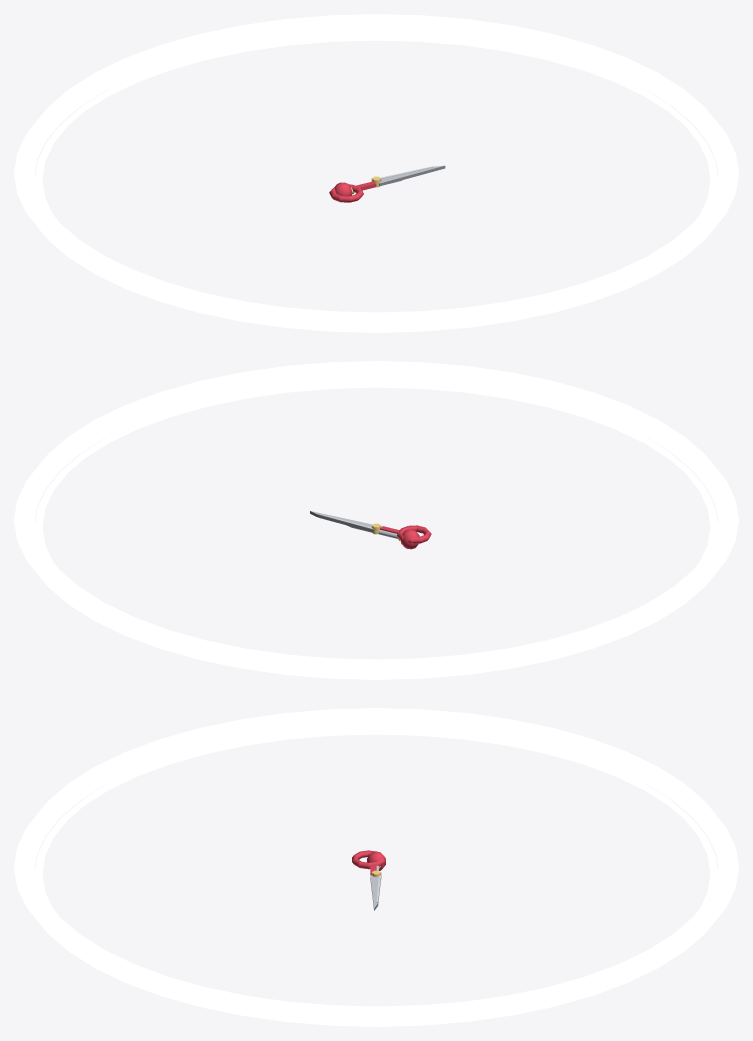
File: kinu_pins.glb
3 views of the same model, one above another, from view 1: azimuth 30°, elevation 25°; view 2: azimuth 150°, elevation 25°; view 3: azimuth 270°, elevation 25° (orthographic).
Parts seen in each view (by area): view 1: heatRing_band, scissor_half; view 2: heatRing_band, scissor_half; view 3: heatRing_band, scissor_half.
Boxes of the visible parts, x1,y1,x2,y2 form: heatRing_band: (14, 14, 738, 332); scissor_half: (329, 165, 445, 202); heatRing_band: (14, 361, 738, 679); scissor_half: (310, 511, 431, 543); heatRing_band: (14, 708, 738, 1026); scissor_half: (352, 850, 385, 910).
Bounding box in the file's own units: 1.86 × 0.0826 × 1.86.
